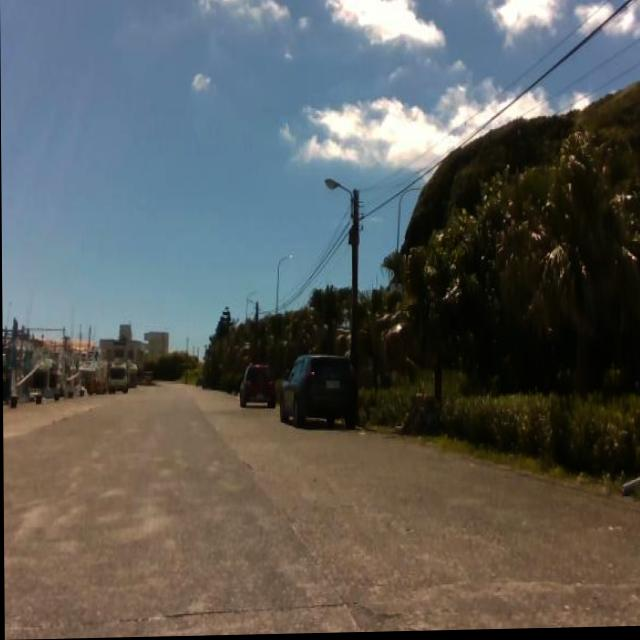pollute: (392, 385, 443, 441), (615, 471, 640, 499)
